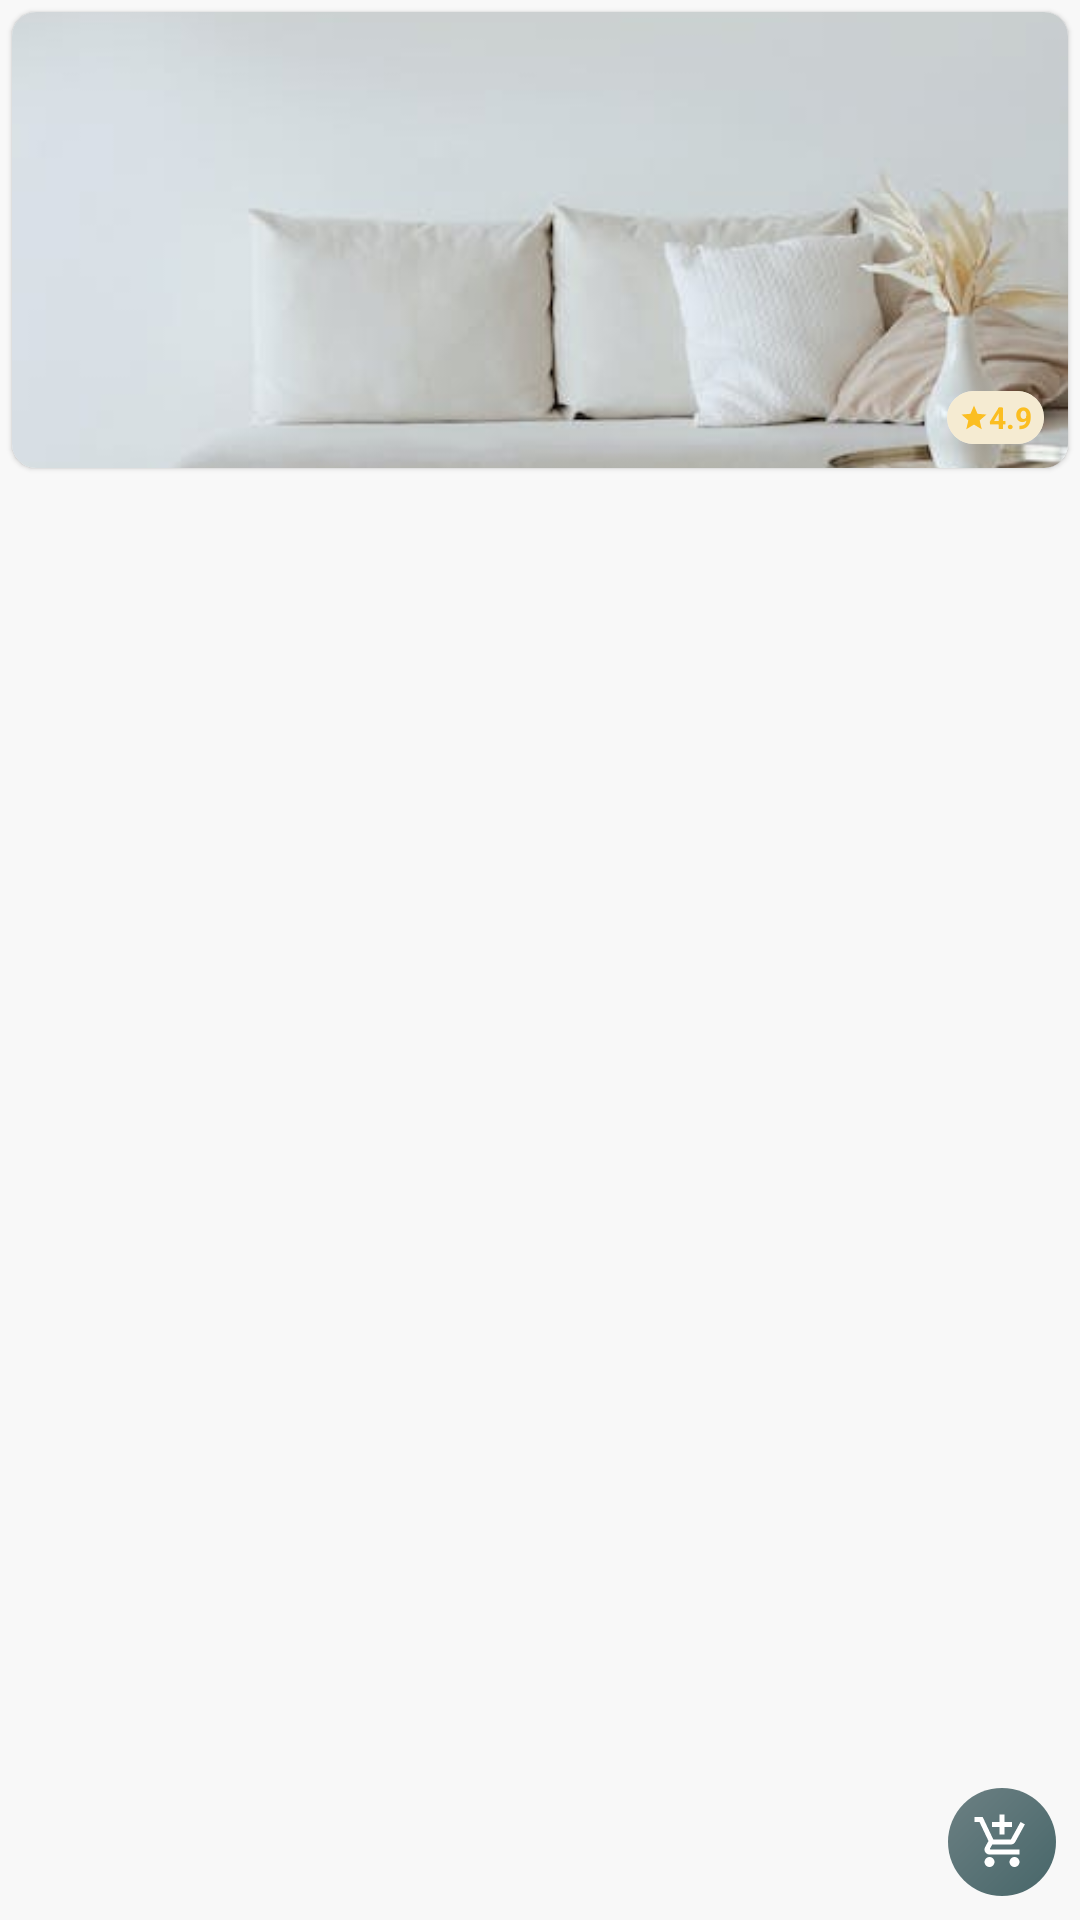

Where icons sit on this 1080×1920 app screen, as (x1, y1, x2, y2):
Add to cart icon: (948, 1788, 1056, 1896)
